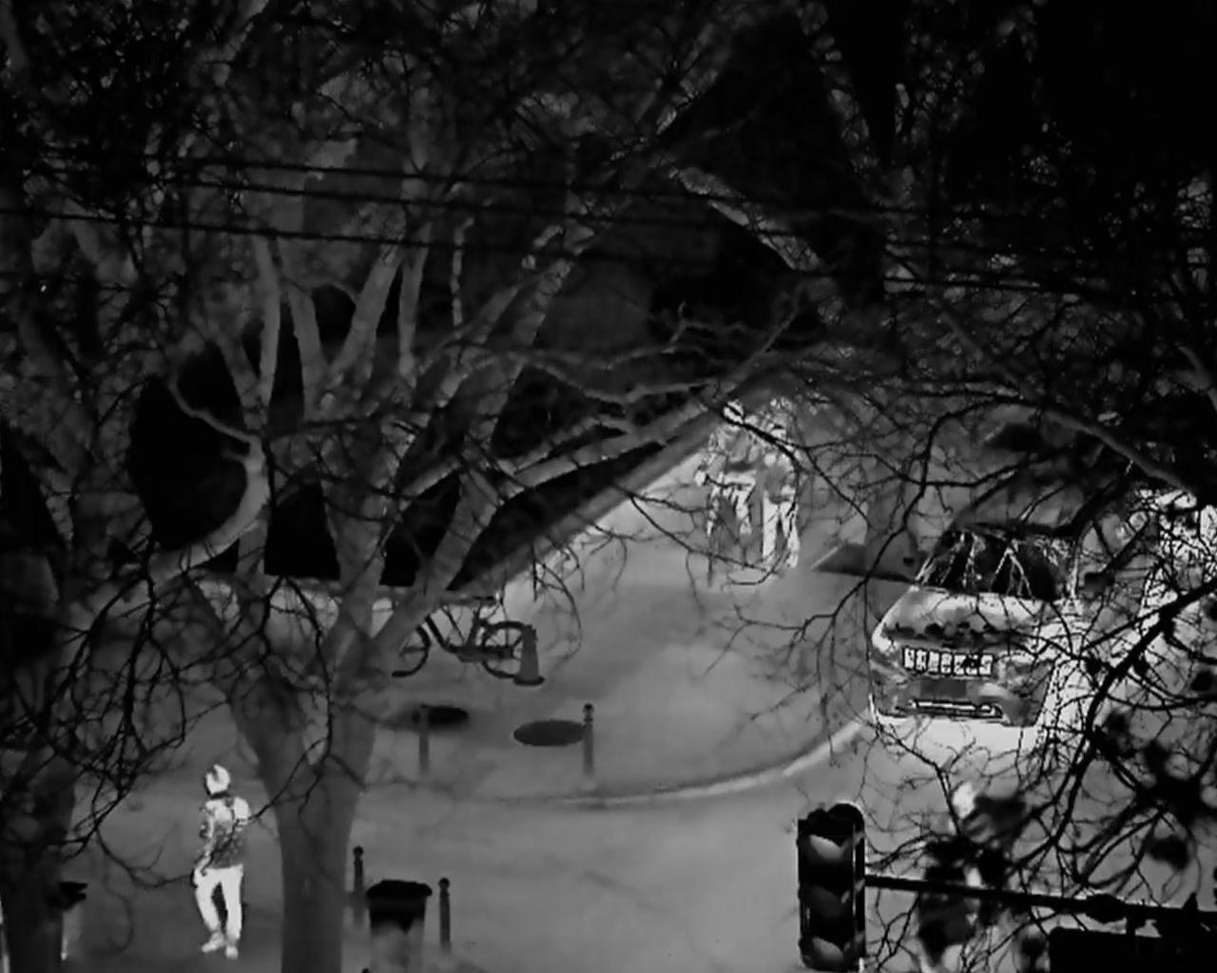person: (192, 762, 250, 959), (693, 399, 756, 535), (760, 417, 801, 573)
